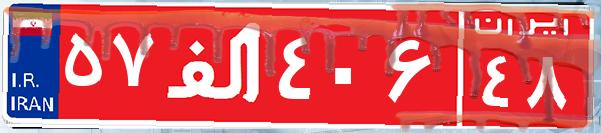0: (330, 28, 385, 110)
4: (273, 28, 330, 110), (475, 38, 525, 113)
5: (57, 26, 110, 107)
6: (385, 28, 445, 110)
7: (110, 28, 158, 105)
8: (525, 38, 570, 115)
الف: (158, 15, 273, 115)
